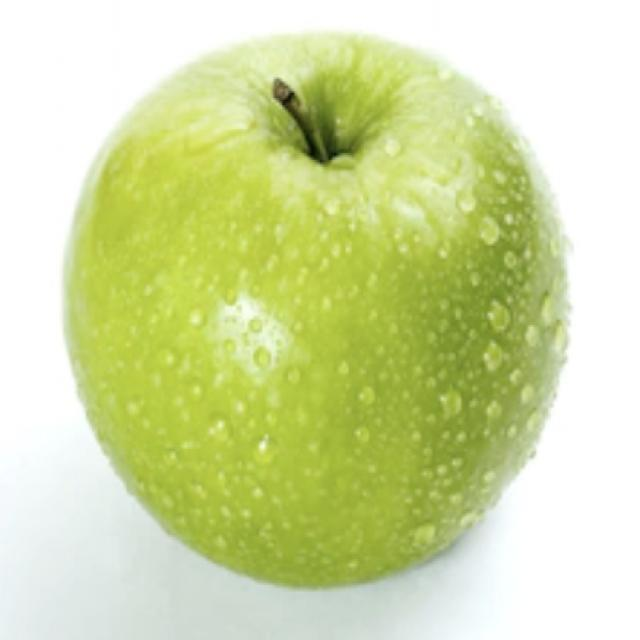Fresh Apple: (78, 52, 575, 585)
